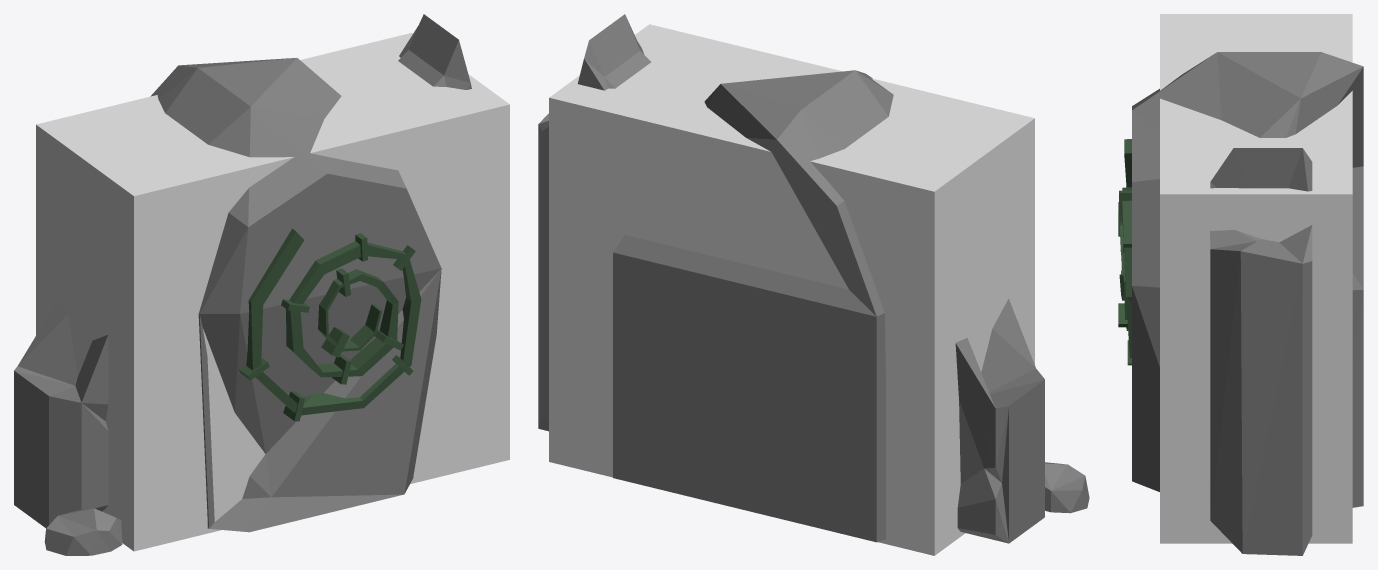
The model's file is elf_sculpture_rock2.glb.
3 views of the same model, side by side, from view 1: azimuth 30°, elevation 25°; view 2: azimuth 150°, elevation 25°; view 3: azimuth 270°, elevation 25° (orthographic). The views are drawn at different scales.
Visible parts, largest first — view 1: Cube.003, sculpture_6; view 2: Cube.003, sculpture_6; view 3: sculpture_6, Cube.003.
Part boxes in pixels (<box>): Cube.003: <box>36,33,509,551</box>; sculpture_6: <box>14,14,471,555</box>; Cube.003: <box>549,24,1034,555</box>; sculpture_6: <box>538,14,1089,543</box>; sculpture_6: <box>1118,52,1363,555</box>; Cube.003: <box>1160,14,1352,543</box>.
Size of the model in its own units: 2.38 by 1.87 by 1.07.
Materials: 1 (1 with a texture image).
